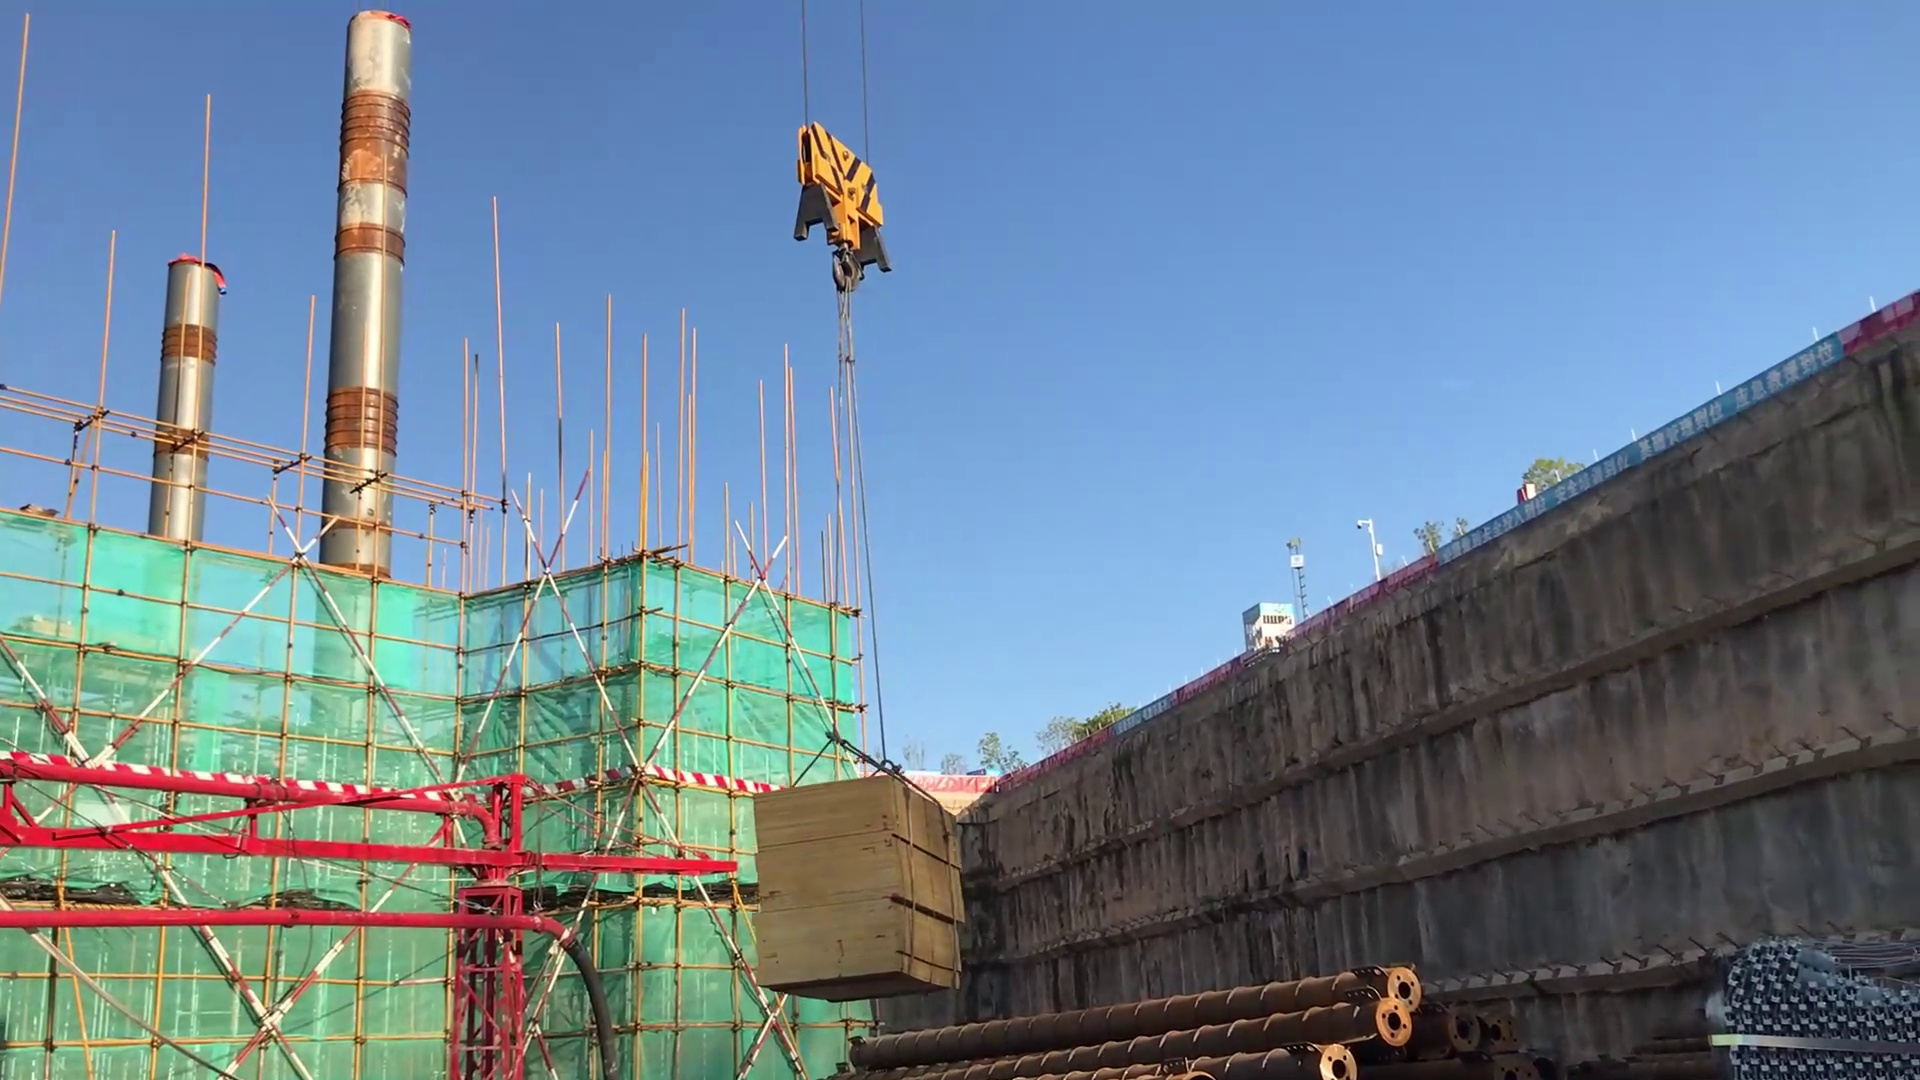board: (746, 773, 965, 1013)
hook: (779, 113, 905, 410)
scaffold: (1722, 920, 1920, 1080)
slogan: (1420, 338, 1855, 588), (1112, 680, 1187, 737)
